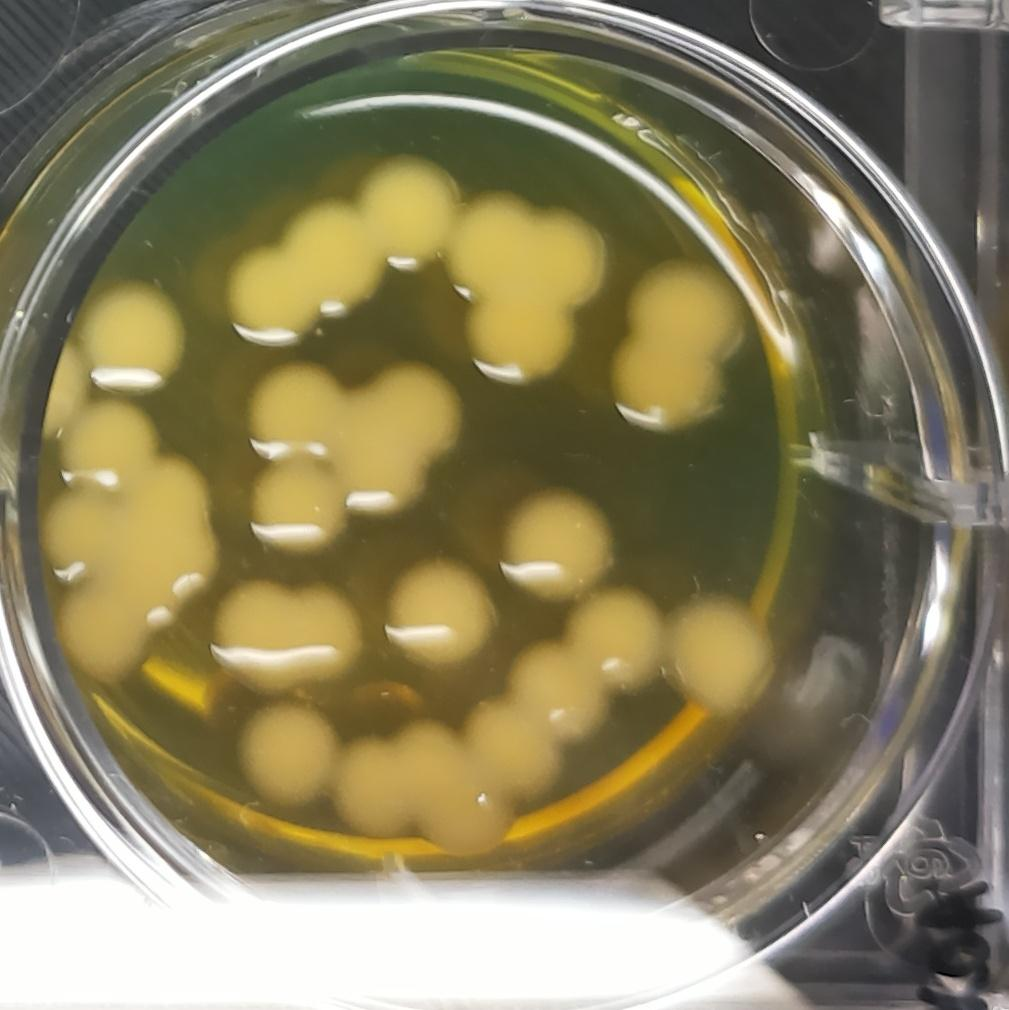valgino: (37, 394, 220, 688), (451, 191, 607, 386), (607, 251, 751, 436), (343, 716, 521, 860), (225, 195, 389, 348), (345, 354, 464, 523), (202, 577, 362, 690), (385, 551, 500, 675), (358, 149, 464, 278), (499, 485, 613, 604), (670, 595, 782, 714), (71, 277, 191, 388), (229, 696, 339, 807), (566, 582, 674, 693), (241, 359, 346, 464), (509, 631, 610, 740), (463, 689, 565, 796), (241, 462, 345, 564), (625, 769, 625, 769)
